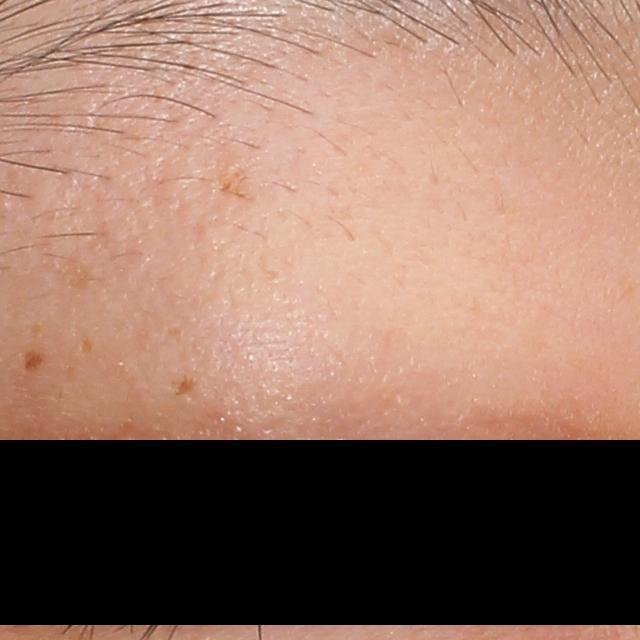melasma: (51, 250, 102, 295), (214, 167, 253, 200), (20, 348, 53, 377), (171, 373, 200, 400), (27, 320, 47, 342), (80, 334, 95, 360)
